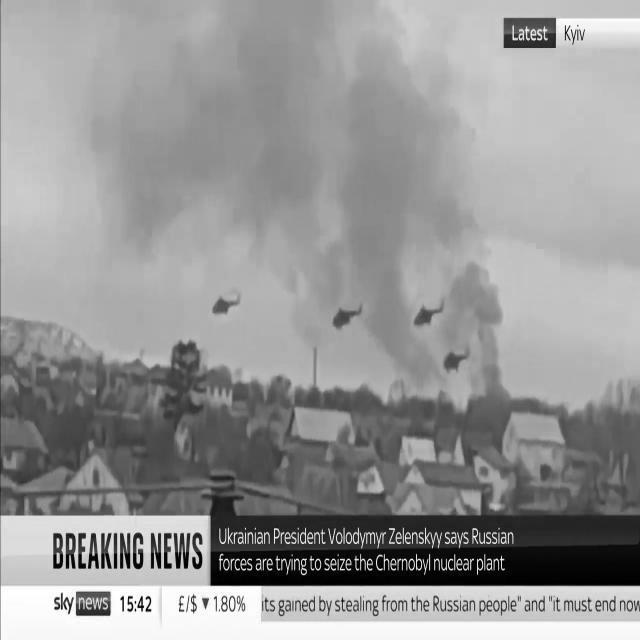helikopter: (398, 283, 457, 348), (322, 280, 374, 348), (202, 276, 250, 331)
